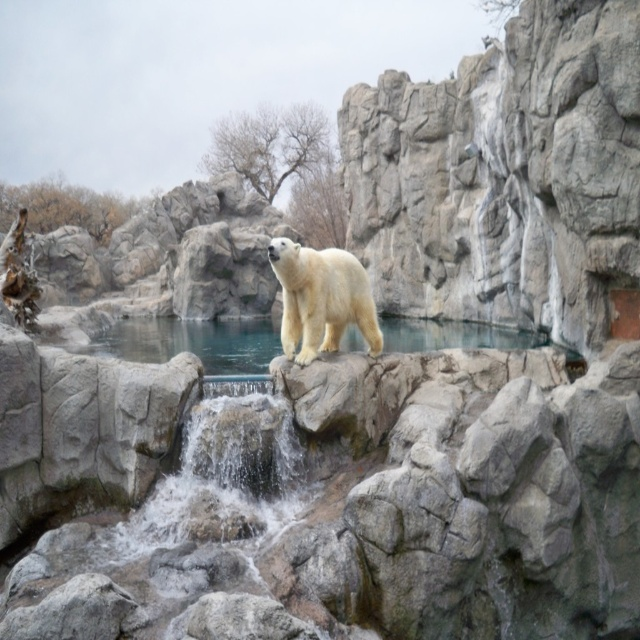Polar bear: (267, 237, 384, 366)
